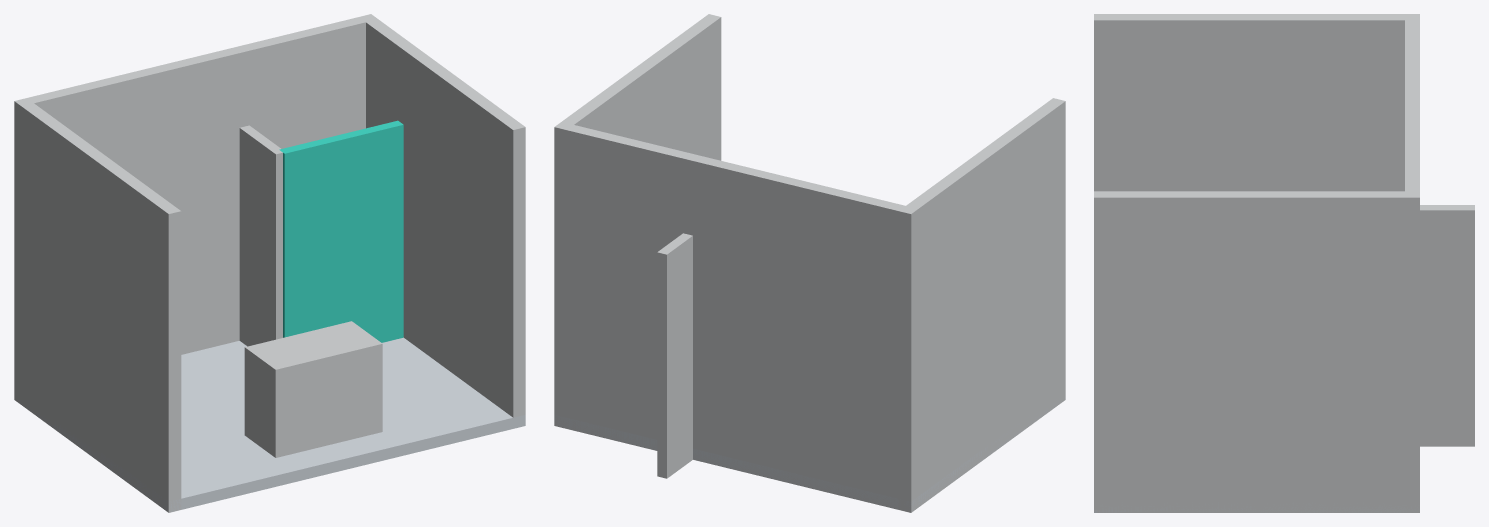
The picture shows the model from 3 angles, left to right: view 1: azimuth 30°, elevation 25°; view 2: azimuth 150°, elevation 25°; view 3: azimuth 270°, elevation 25°; orthographic projection. The views are drawn at different scales.
Visible parts, largest first — view 1: Exhibition Booth Concept; view 2: Exhibition Booth Concept; view 3: Exhibition Booth Concept.
Part boxes in pixels (left/top/right/bottom): Exhibition Booth Concept: left=14, top=14, right=525, bottom=512; Exhibition Booth Concept: left=554, top=14, right=1065, bottom=512; Exhibition Booth Concept: left=1094, top=14, right=1474, bottom=512.
Bounding box in the file's own units: 4 × 3.2 × 3.51.
